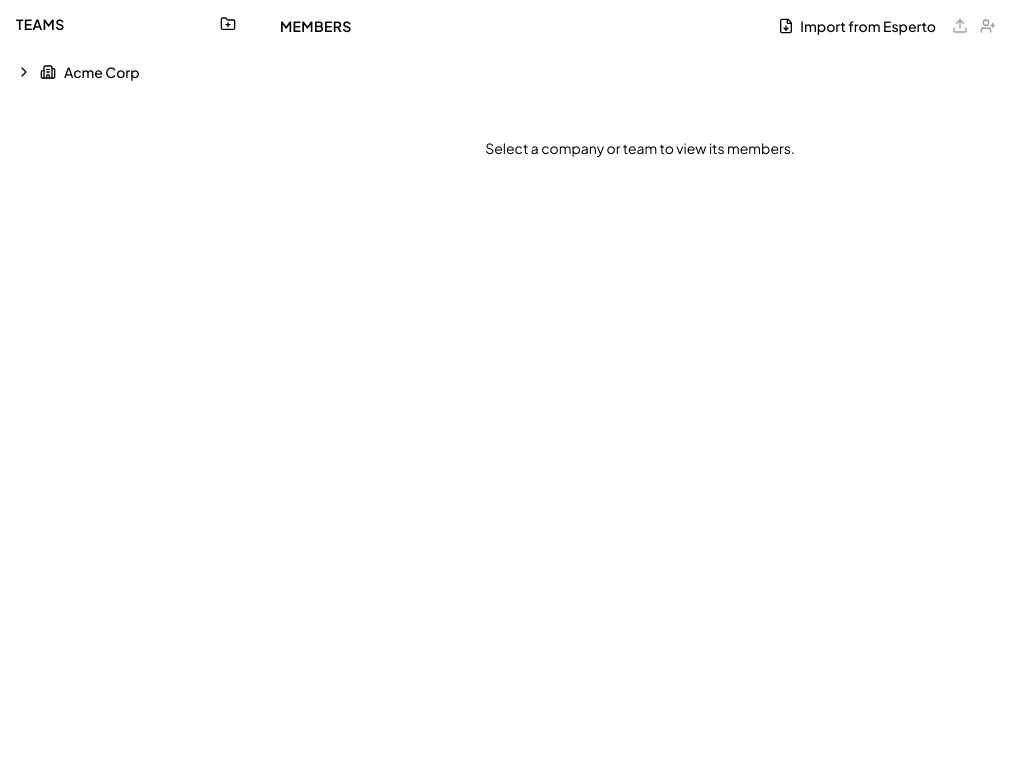
Test: AddTeamModal › (7) after successful TEAM create, the org becomes expanded
// Open the Add modal via the FolderPlus button
Click the button named "add company or team". click: {"x": 228, "y": 24}
box: [216,12,240,36]
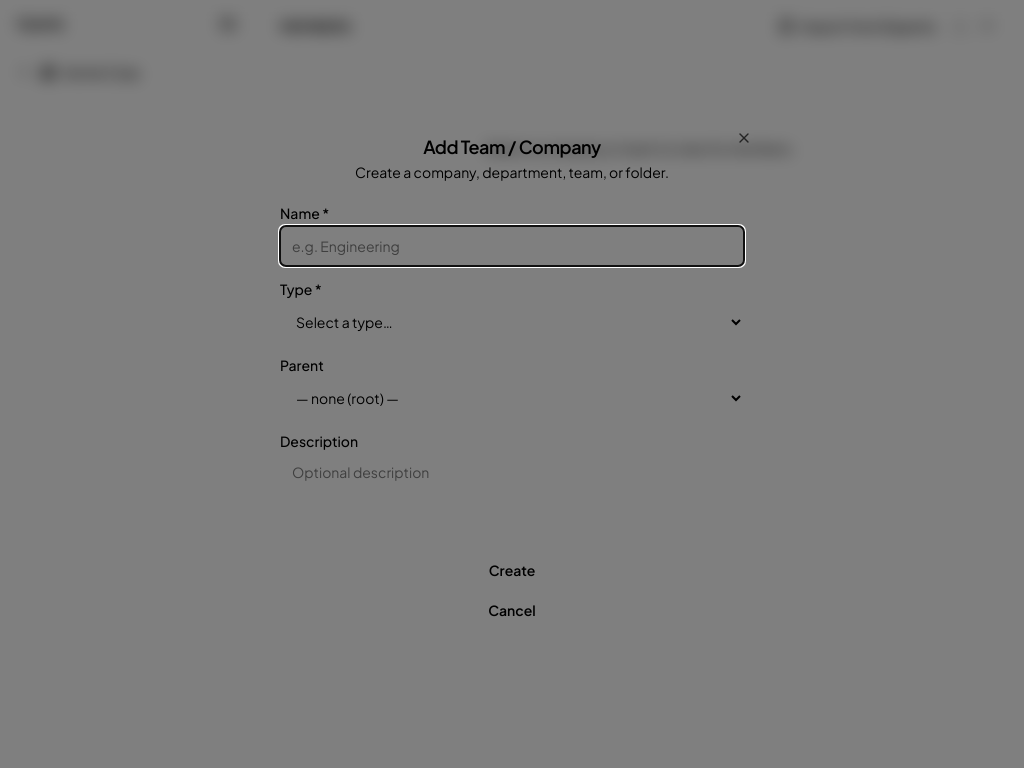
Check: the field labelled "Name *" is shown
Type "Design" into the field labelled "Name *". click: {"x": 512, "y": 246}
box: [280,226,744,266]
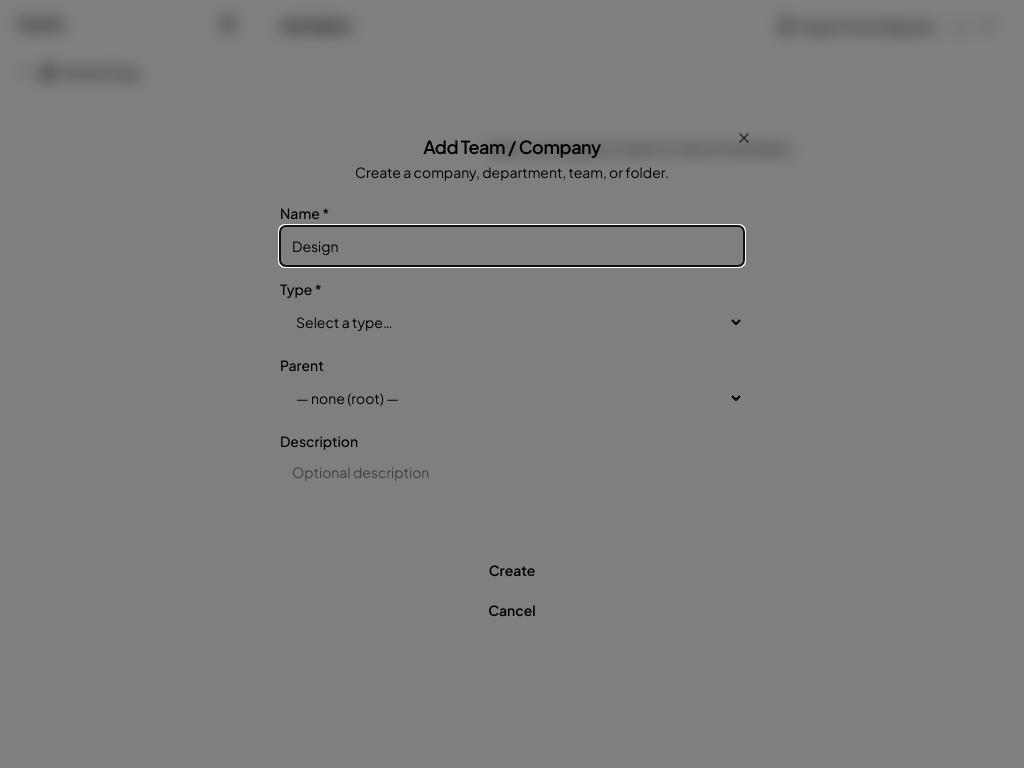
Select "Acme Corp" in the dropdown with test id "select-parent". click: {"x": 512, "y": 398}
box: [280,378,744,418]
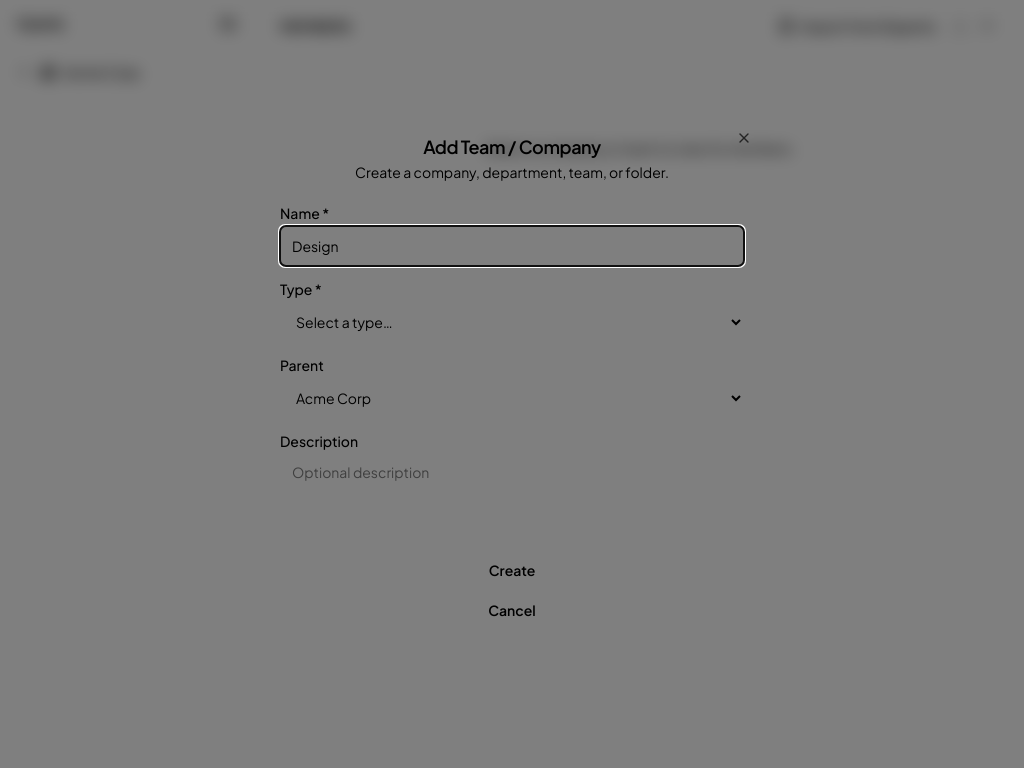
Select "Team" in the dropdown with test id "select-type". click: {"x": 512, "y": 322}
box: [280,302,744,342]
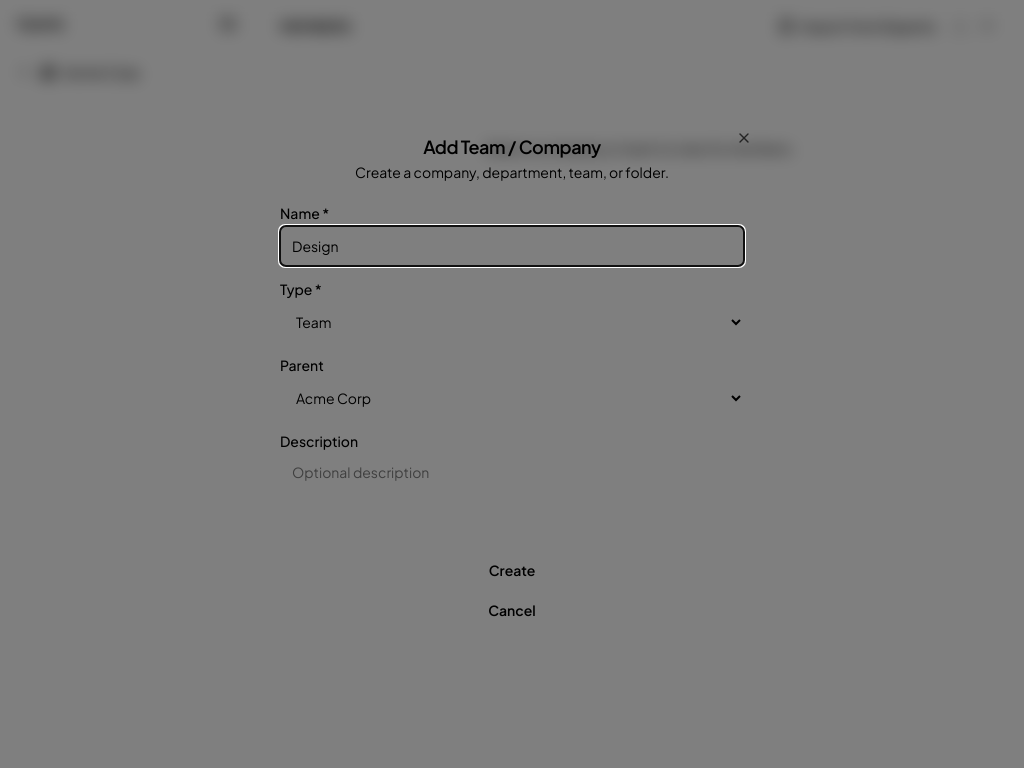
Click the button "Create". click: {"x": 512, "y": 570}
box: [280,550,744,590]
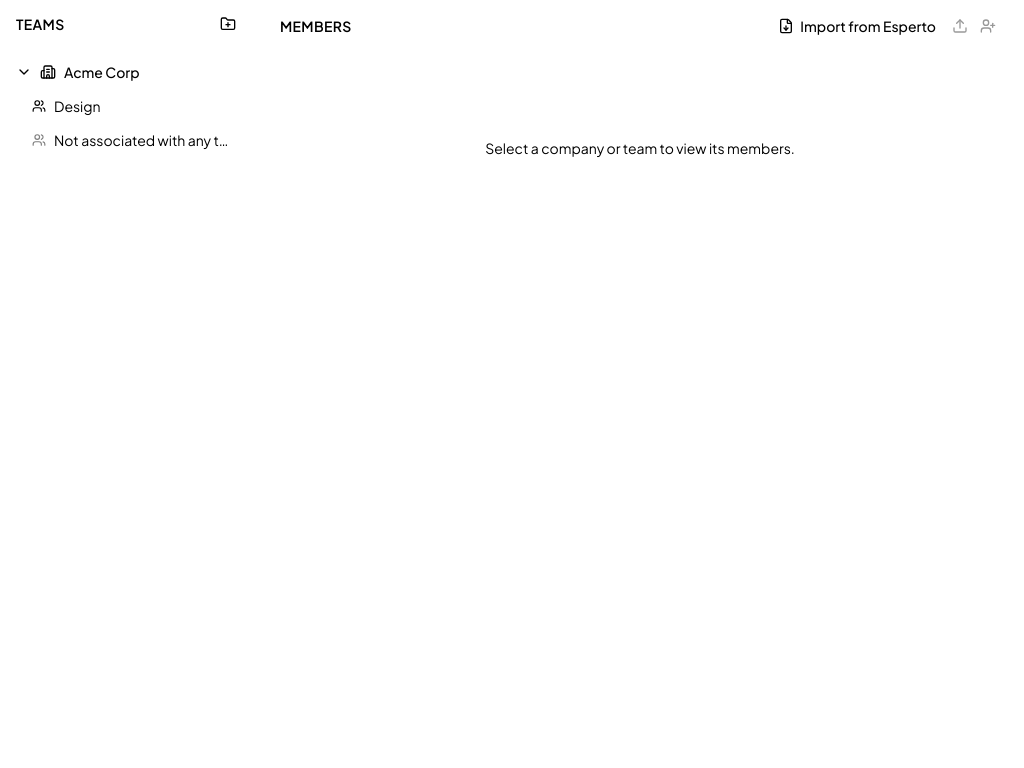
Check: the button "Design" is shown, box [8,90,248,122]
Check: the button "Acme Corp" is expanded, box [8,56,248,88]
